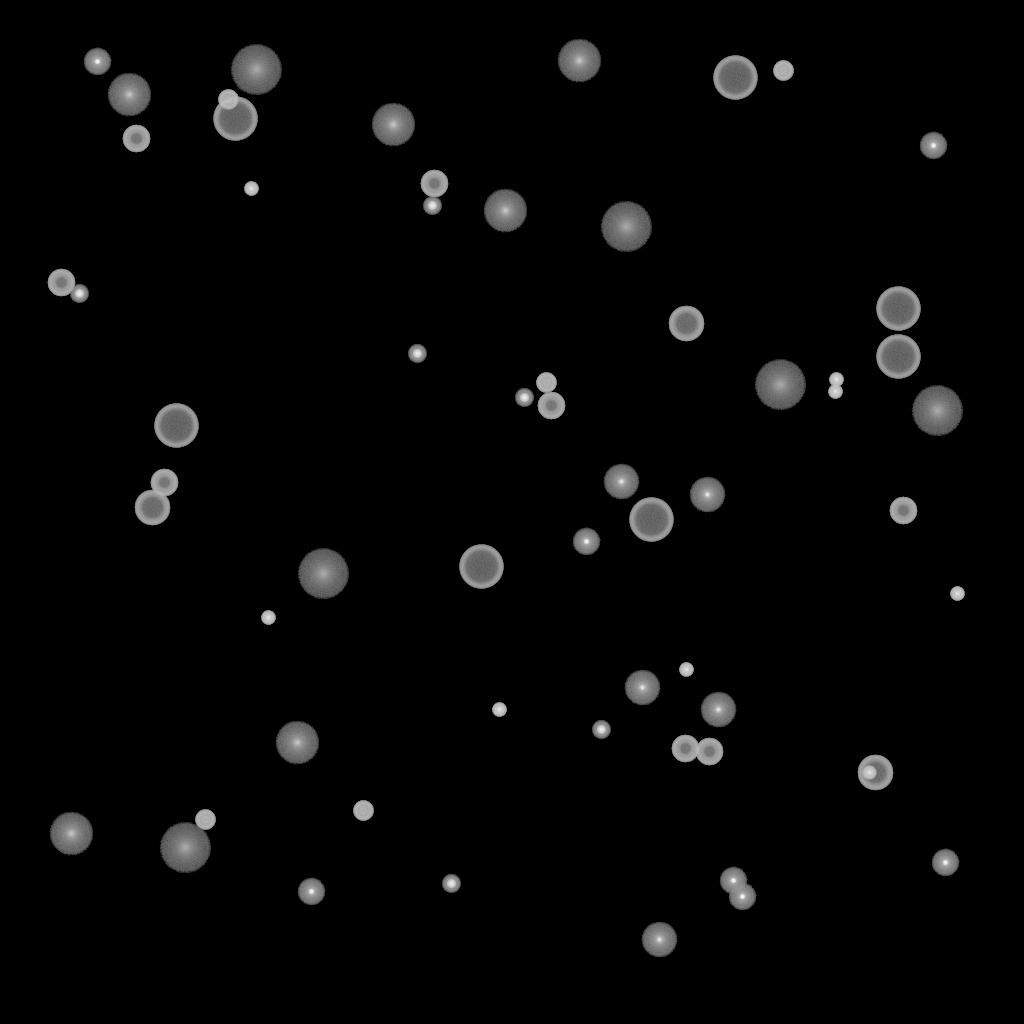depth:-10: (297, 878, 325, 906), (728, 883, 756, 911), (919, 132, 947, 160), (572, 528, 600, 556), (719, 867, 747, 895), (83, 48, 111, 76), (931, 849, 959, 877)
depth:-20: (70, 285, 88, 303), (515, 389, 533, 407), (408, 345, 426, 363), (423, 197, 441, 215), (592, 721, 610, 739), (442, 875, 460, 893)
depth:-30: (679, 663, 693, 677), (261, 611, 275, 625), (862, 766, 876, 780), (492, 703, 506, 717), (828, 385, 842, 399), (244, 182, 258, 196), (950, 587, 964, 601), (829, 373, 843, 387)
depth:-40: (353, 801, 373, 821), (536, 373, 556, 393), (218, 90, 238, 110), (195, 810, 215, 830), (773, 61, 793, 81)
depth:-50: (889, 497, 917, 525), (150, 469, 178, 497), (122, 125, 150, 153), (695, 738, 723, 766), (537, 392, 565, 420), (47, 269, 75, 297), (420, 170, 448, 198), (671, 735, 699, 763)
depth:-60: (134, 490, 170, 526), (668, 306, 704, 342), (857, 755, 893, 791)
depth:-70: (713, 56, 757, 100), (459, 545, 503, 589), (876, 335, 920, 379), (629, 498, 673, 542), (876, 287, 920, 331), (213, 97, 257, 141), (154, 404, 198, 448)
depth:0: (641, 922, 677, 958), (700, 692, 736, 728), (624, 670, 660, 706), (689, 477, 725, 513), (603, 464, 639, 500)
depth:10: (275, 721, 319, 765), (483, 189, 527, 233), (107, 73, 151, 117), (49, 812, 93, 856), (557, 39, 601, 83), (371, 103, 415, 147)
depth:20: (600, 202, 652, 252), (159, 823, 211, 873), (911, 386, 963, 436), (754, 360, 806, 410), (230, 45, 282, 95), (297, 549, 349, 599)
